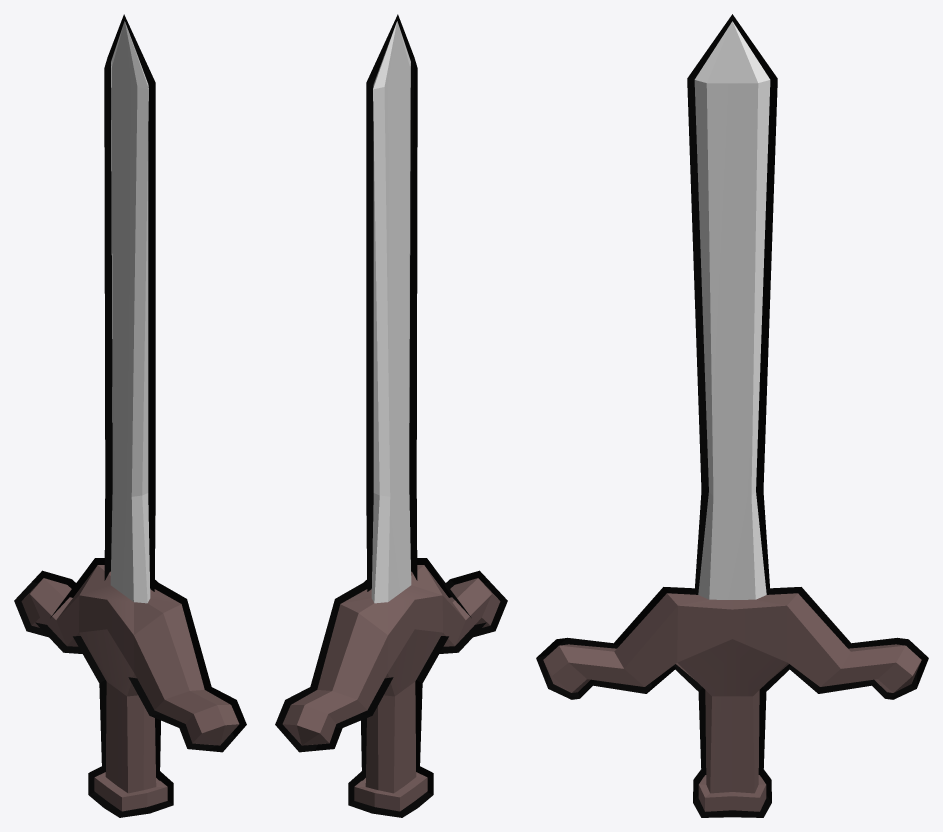
The model's file is Sword_4.fbx.
3 views of the same model, side by side, from view 1: azimuth 30°, elevation 25°; view 2: azimuth 150°, elevation 25°; view 3: azimuth 270°, elevation 25° (orthographic).
Visible parts, largest first — view 1: Sword_4, Sword_4_outliner; view 2: Sword_4, Sword_4_outliner; view 3: Sword_4, Sword_4_outliner.
Boxes of the visible parts, x1=… form: Sword_4: x1=21, y1=21, x2=239, y2=811; Sword_4_outliner: x1=14, y1=14, x2=246, y2=817; Sword_4: x1=282, y1=21, x2=500, y2=811; Sword_4_outliner: x1=275, y1=14, x2=507, y2=817; Sword_4: x1=543, y1=21, x2=921, y2=811; Sword_4_outliner: x1=536, y1=14, x2=928, y2=817.
Bounding box in the file's own units: 23.79 × 300 × 135.
